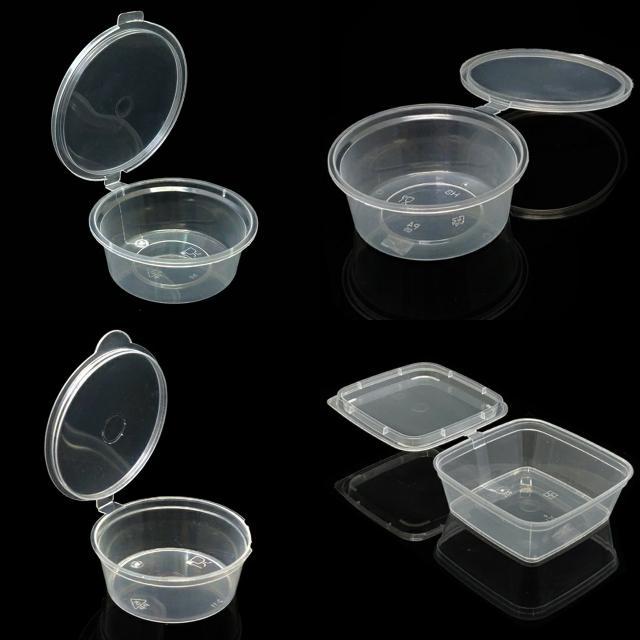Single-Use-Plastic: (328, 49, 632, 260), (328, 362, 632, 564), (45, 331, 251, 623), (52, 15, 258, 302)
